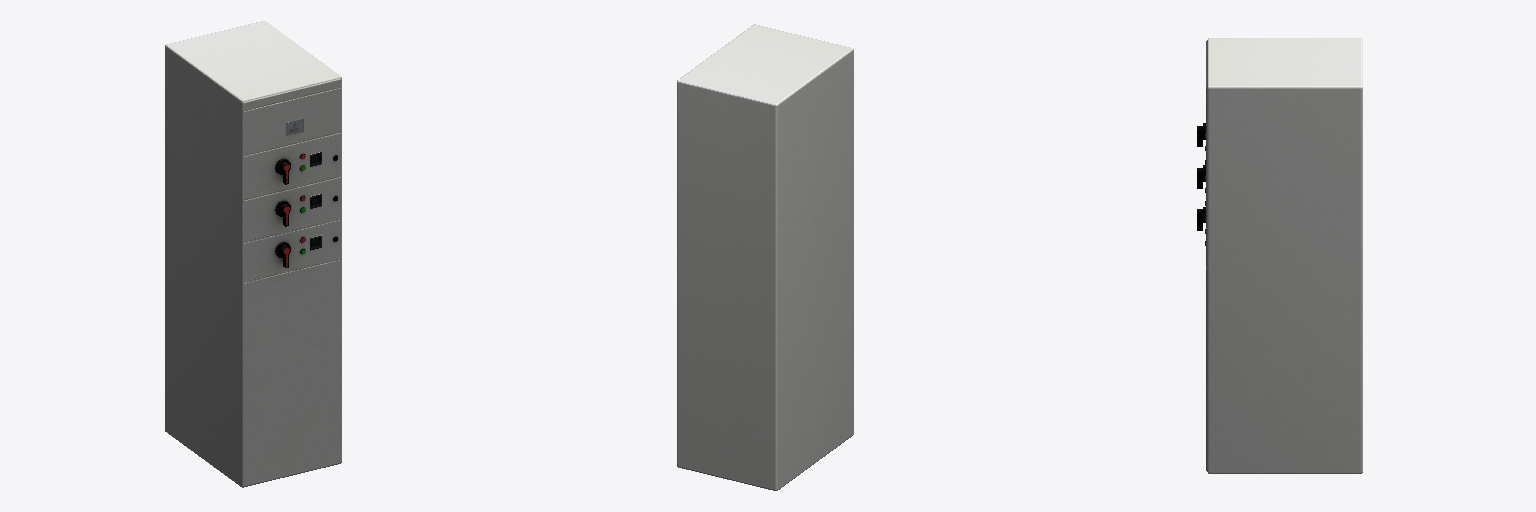
The picture shows the model from 3 angles: view 1: azimuth 30°, elevation 25°; view 2: azimuth 150°, elevation 25°; view 3: azimuth 270°, elevation 25°; orthographic projection.
Parts seen in each view (by area): view 1: mcc60; view 2: mcc60; view 3: mcc60.
Part boxes in pixels (bbox=[...]): mcc60: bbox=[165, 21, 341, 487]; mcc60: bbox=[677, 24, 853, 490]; mcc60: bbox=[1197, 38, 1362, 473].
Size of the model in its own units: 60 by 220 by 85.19.
Materials: 1 (1 with a texture image).